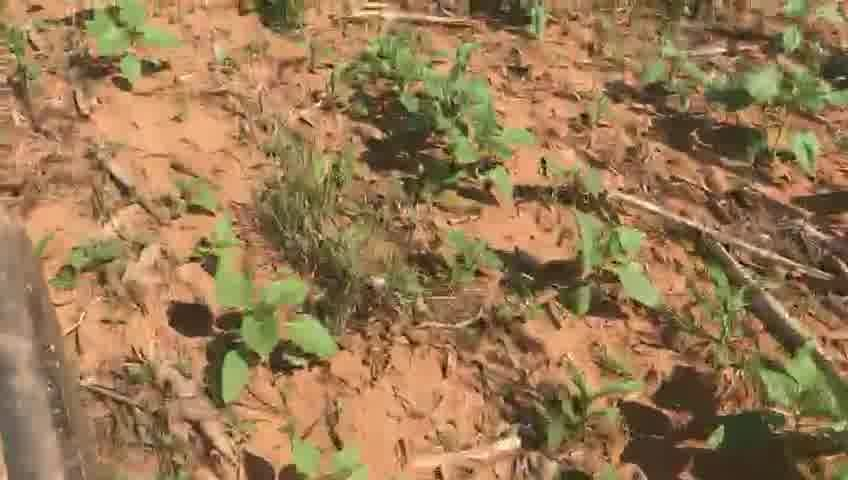sunflower: (208, 259, 340, 408), (542, 206, 682, 321), (417, 109, 538, 210), (737, 338, 834, 461), (79, 5, 182, 100), (404, 47, 494, 127), (251, 427, 378, 478)
